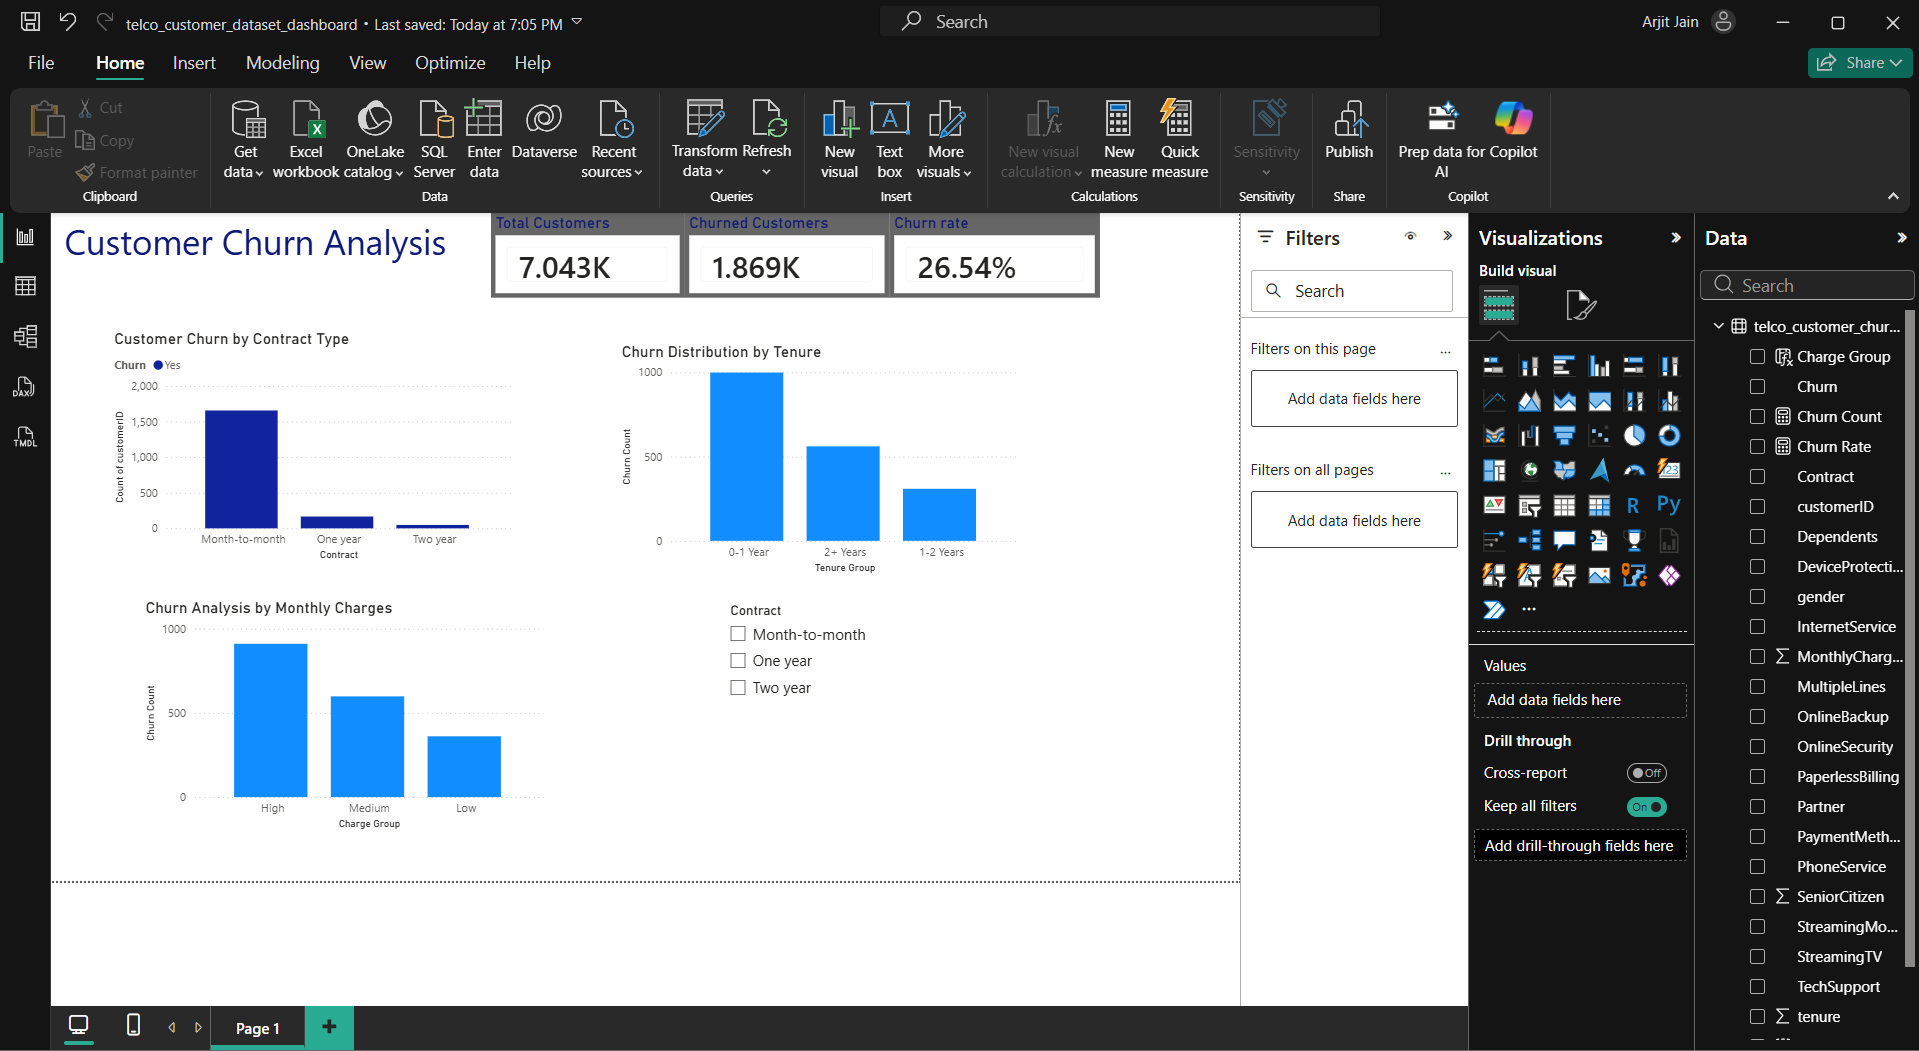

The page's visual inventory and layout, read from the dashboard file:
{"tool":"powerbi","page":{"name":"Page 1","canvas":[1280,720],"ordinal":0},"visuals":[{"type":"textbox","box":[9.6,0,437.7,82.3],"z":0},{"type":"cardVisual","title":"Total Customers","fields":{"Data":["Count(telco_customer_churn_dataset.customerID)"]},"box":[430.9,0,208.6,91.9],"z":1},{"type":"cardVisual","title":"Churned Customers","fields":{"Data":["CountNonNull(telco_customer_churn_dataset.Churn)"]},"box":[639.5,0,220.9,91.9],"z":2},{"type":"cardVisual","title":"Churn rate","fields":{"Data":["telco_customer_churn_dataset.Churn Rate"]},"box":[860.4,0,226.4,91.9],"z":3},{"type":"clusteredColumnChart","title":"Churn By Contract Type","fields":{"Category":["telco_customer_churn_dataset.Contract"],"Y":["CountNonNull(telco_customer_churn_dataset.customerID)"],"Series":["telco_customer_churn_dataset.Churn"]},"box":[63.3,125.2,437.5,254.4],"z":5},{"type":"clusteredColumnChart","title":"Churn by Tenure Group","fields":{"Category":["telco_customer_churn_dataset.Tenure Group"],"Y":["telco_customer_churn_dataset.Churn Count"]},"box":[609.8,138.7,437.5,254.4],"z":6},{"type":"clusteredColumnChart","title":"Churn by Monthly Charges","fields":{"Category":["telco_customer_churn_dataset.Charge Group"],"Y":["telco_customer_churn_dataset.Churn Count"]},"box":[96.9,414.6,438.9,254.4],"z":7},{"type":"slicer","fields":{"Values":["telco_customer_churn_dataset.Contract"]},"box":[718.9,414.6,367.5,254.4],"z":8}]}

Visuals, with their boxes on the page's 1280x720 design canvas (x1, y1, x2, y2). These are canvas units, not pixel positions in the 1919x1051 screenshot, which may show the page scaled, cropped or inside an application window:
textbox: [10, 0, 447, 82]
"Total Customers" cardVisual: [431, 0, 640, 92]
"Churned Customers" cardVisual: [640, 0, 860, 92]
"Churn rate" cardVisual: [860, 0, 1087, 92]
"Churn By Contract Type" clusteredColumnChart: [63, 125, 501, 380]
"Churn by Tenure Group" clusteredColumnChart: [610, 139, 1047, 393]
"Churn by Monthly Charges" clusteredColumnChart: [97, 415, 536, 669]
slicer - telco_customer_churn_dataset.Contract: [719, 415, 1086, 669]
